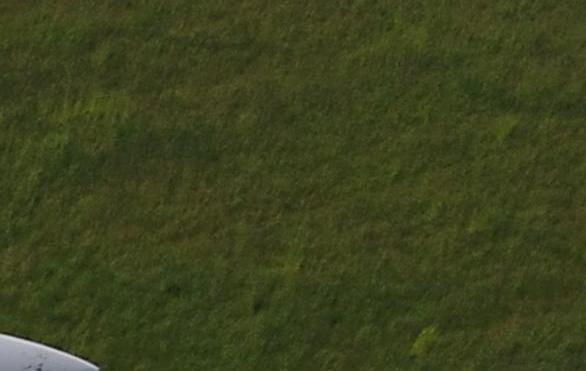damage: (24, 353, 47, 371)
